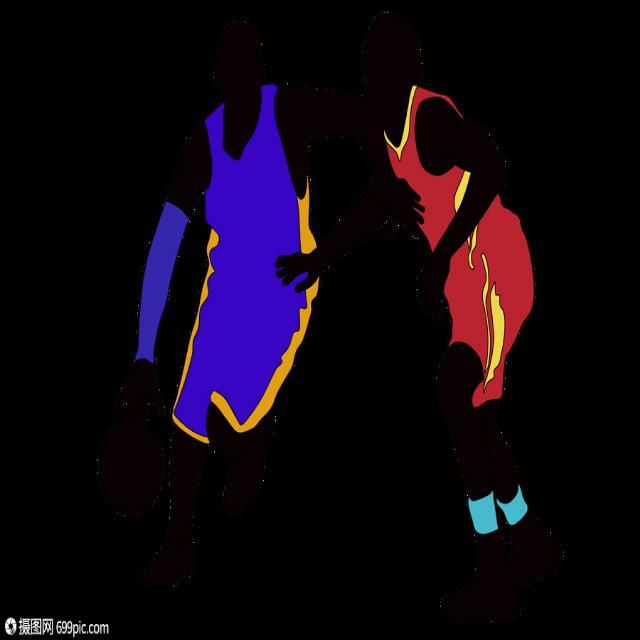rim: (99, 420, 166, 514)
